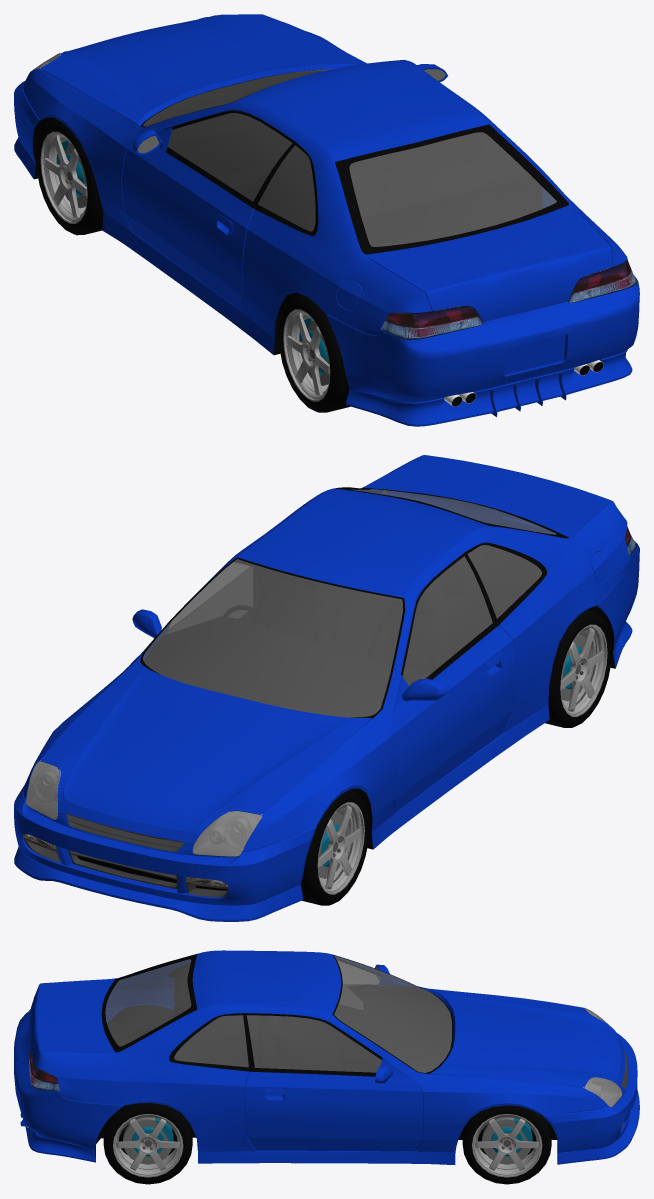
File: prelude.glb
3 renders of one model, top to bottom at view 1: azimuth 30°, elevation 25°; view 2: azimuth 150°, elevation 25°; view 3: azimuth 270°, elevation 25°, orthographic. The views are drawn at different scales.
Visible parts, largest first — view 1: body_Black_Metal_Paint_0, body_black4_0, body_Glass.001_0, object 6, fusedwheel_1 (×2), fusedwheel_3 (×2), object 9; view 2: body_Black_Metal_Paint_0, body_Glass.001_0, body_black4_0, Object_5_leather_black.001_0, fusedwheel_1 (×2), fusedwheel_3 (×2), object 6, body_glaaa_0, object 4, mirrors_Black_Metal_Paint_0; view 3: body_Black_Metal_Paint_0, body_Glass.001_0, body_black4_0, fusedwheel_0 (×4), fusedwheel_2 (×4), object 6, Object_5_leather_black.001_0, body_glaaa_0, object 9.
Boxes of the visible parts, x1=… form: body_Black_Metal_Paint_0: x1=14, y1=14, x2=639, y2=426; body_black4_0: x1=33, y1=70, x2=611, y2=406; body_Glass.001_0: x1=143, y1=68, x2=556, y2=246; object 6: x1=141, y1=69, x2=568, y2=254; fusedwheel_1 (×2): x1=278, y1=294, x2=350, y2=412; fusedwheel_3 (×2): x1=36, y1=118, x2=103, y2=235; object 9: x1=380, y1=259, x2=637, y2=339; body_Black_Metal_Paint_0: x1=14, y1=455, x2=639, y2=921; body_Glass.001_0: x1=143, y1=489, x2=555, y2=717; body_black4_0: x1=38, y1=545, x2=615, y2=890; Object_5_leather_black.001_0: x1=251, y1=572, x2=454, y2=674; fusedwheel_1 (×2): x1=545, y1=609, x2=611, y2=727; fusedwheel_3 (×2): x1=300, y1=789, x2=369, y2=905; object 6: x1=140, y1=487, x2=568, y2=718; body_glaaa_0: x1=26, y1=761, x2=261, y2=856; object 4: x1=23, y1=813, x2=228, y2=897; mirrors_Black_Metal_Paint_0: x1=132, y1=609, x2=448, y2=701; body_Black_Metal_Paint_0: x1=14, y1=950, x2=639, y2=1164; body_Glass.001_0: x1=105, y1=955, x2=451, y2=1072; body_black4_0: x1=32, y1=966, x2=617, y2=1163; fusedwheel_0 (×4): x1=103, y1=1103, x2=192, y2=1184; fusedwheel_2 (×4): x1=462, y1=1105, x2=551, y2=1184; object 6: x1=101, y1=954, x2=453, y2=1076; Object_5_leather_black.001_0: x1=258, y1=1015, x2=296, y2=1068; body_glaaa_0: x1=584, y1=1008, x2=622, y2=1107; object 9: x1=29, y1=1003, x2=59, y2=1091.
Bounding box in the file's own units: 1.93 × 1.27 × 4.52.
16 materials, 2 textured.
